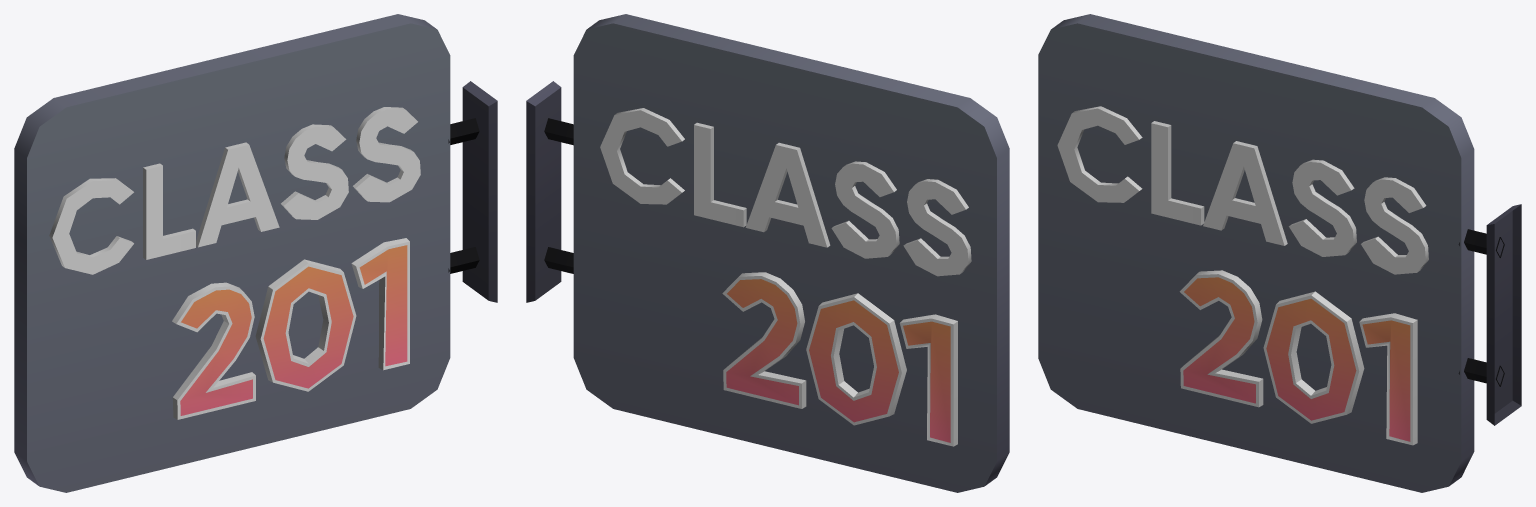
The model's file is CR_ClassSign_004.FBX.
The picture shows the model from 3 angles, left to right: view 1: azimuth 30°, elevation 25°; view 2: azimuth 150°, elevation 25°; view 3: azimuth 330°, elevation 25°; orthographic projection.
Parts seen in each view (by area): view 1: CR_ClassSign_004; view 2: CR_ClassSign_004; view 3: CR_ClassSign_004.
Part boxes in pixels (x1,y1,x2,y2): CR_ClassSign_004: (14,14,497,492); CR_ClassSign_004: (526,14,1009,492); CR_ClassSign_004: (1038,14,1521,492).
Size of the model in its own units: 41.52 by 33 by 4.22.
